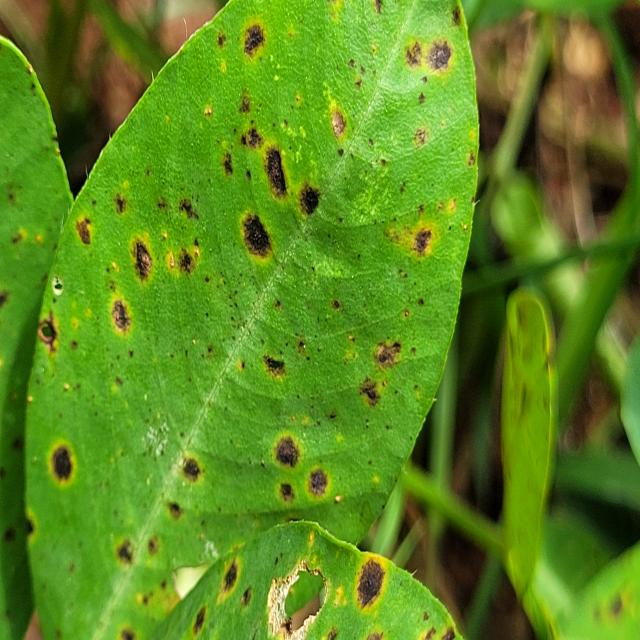Ground nut_tikka leaf spot: (26, 0, 481, 640)
